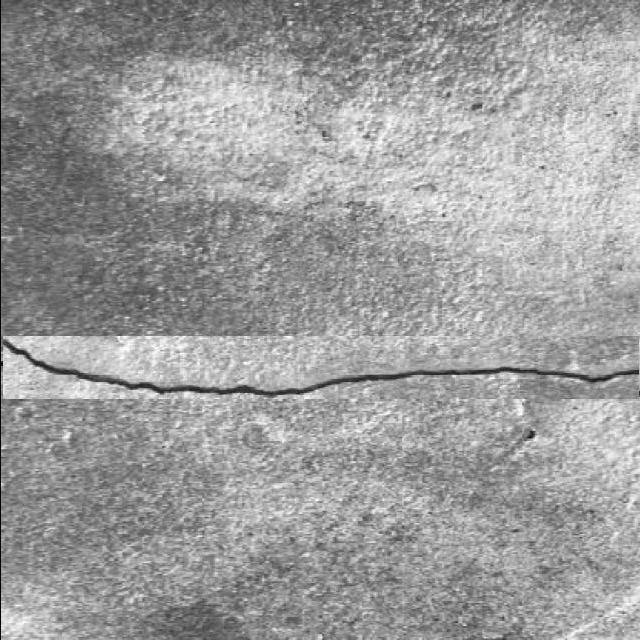crack: (1, 334, 639, 400)
